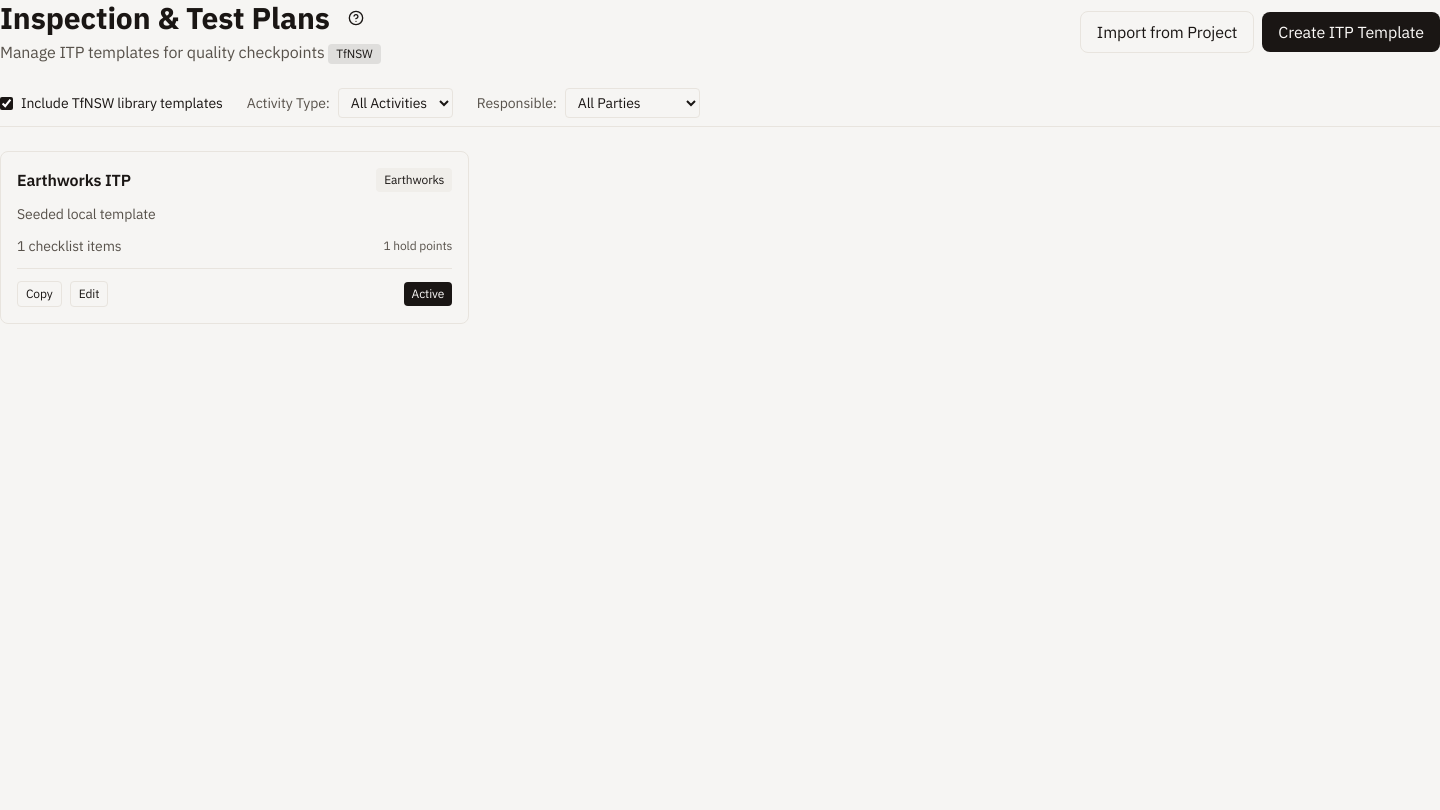
Scenario: ITPPage propagate-after-edit › does not offer the propagate dialog when no lots use the template
Click the button "Edit": (89, 294) [70, 281, 108, 307]
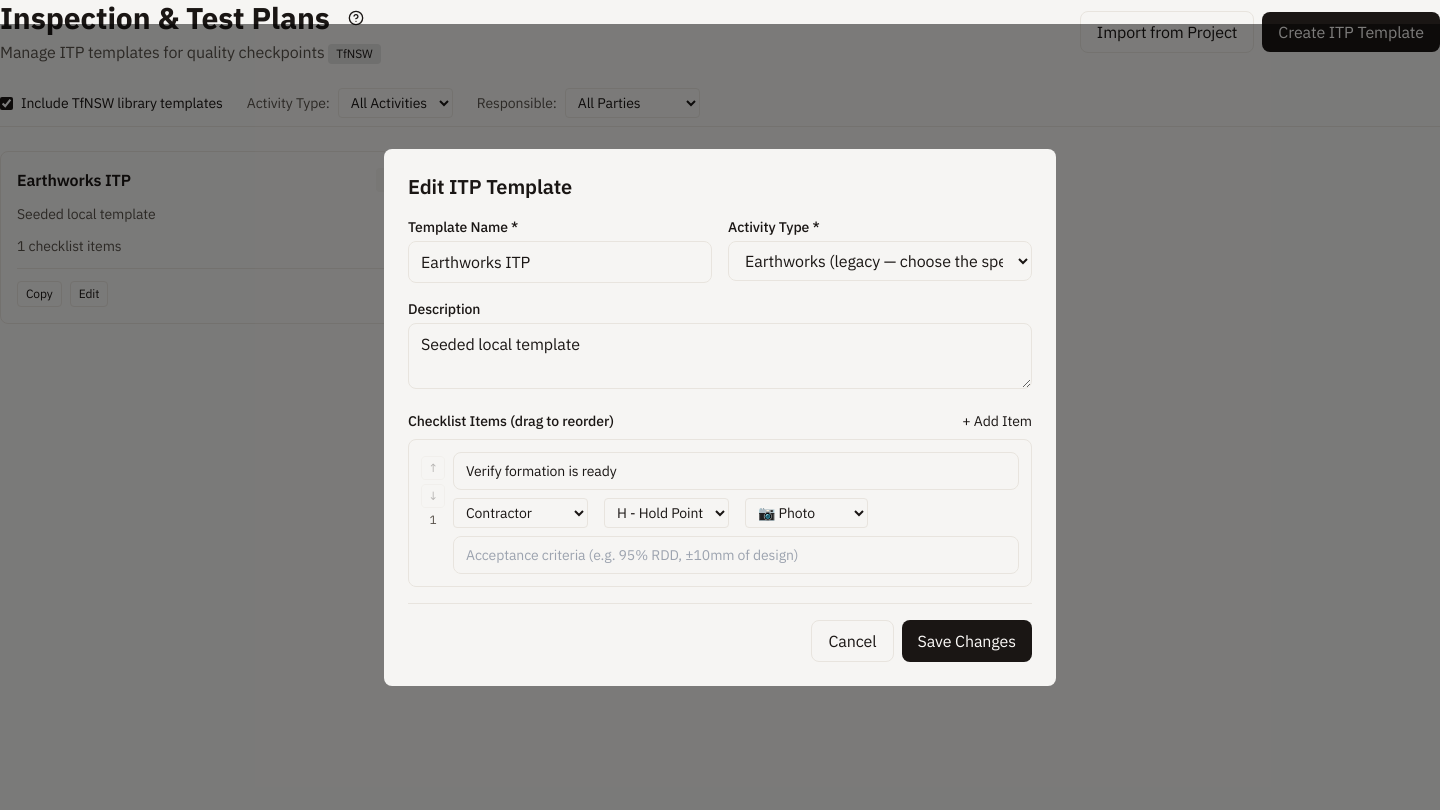
Click the button "Save Changes": (967, 640) [902, 620, 1032, 662]
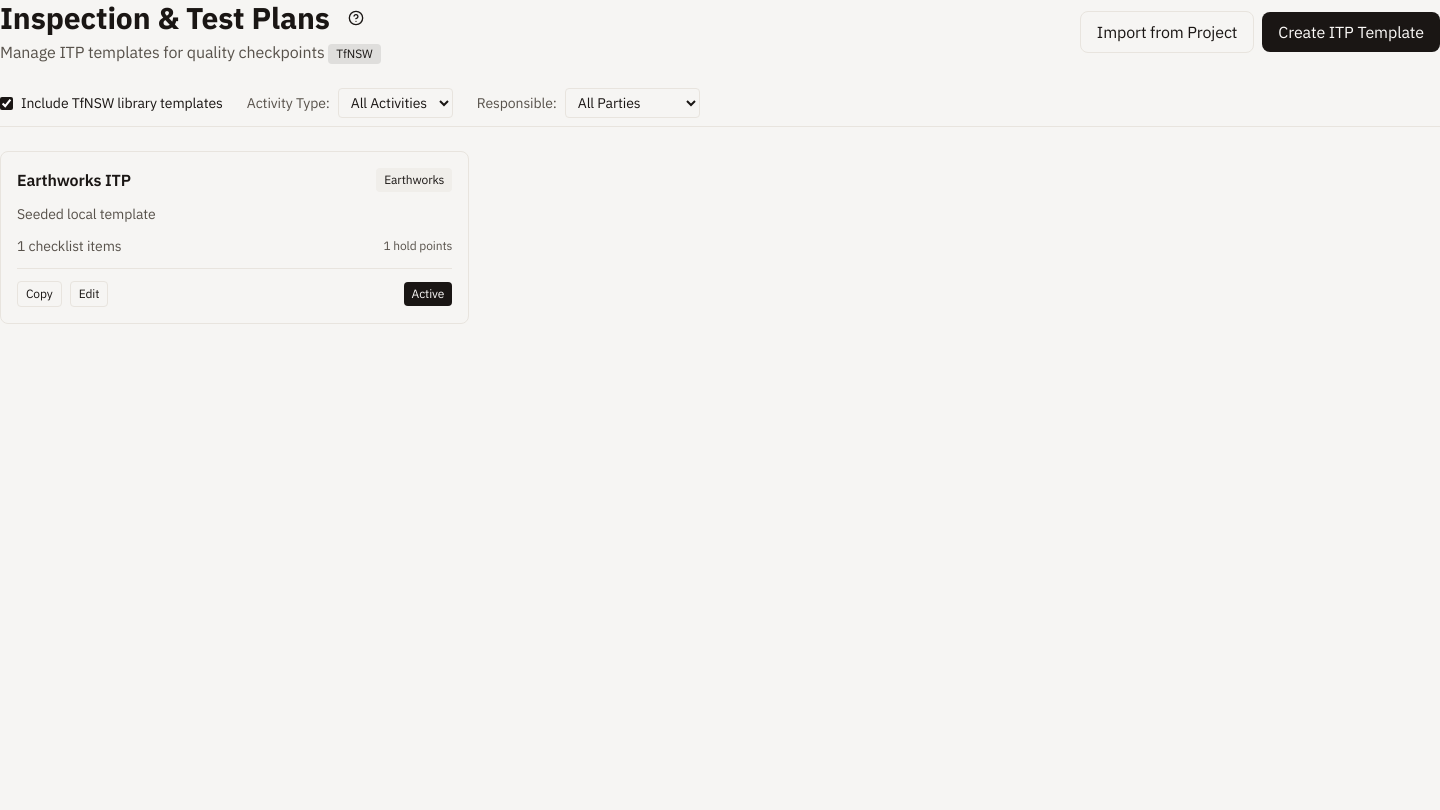
Expected: the heading "Edit ITP Template" is gone
